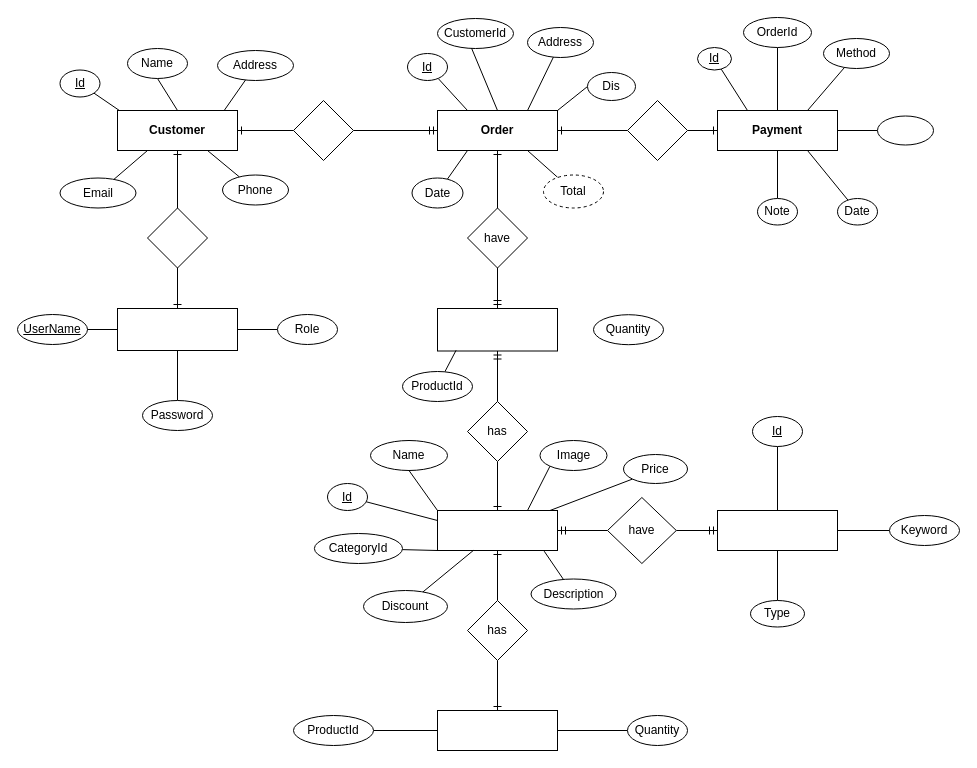
Some shapes in this 977 by 768 pixel diagram are drawn without their labels. The centre of each missing label's shape, as x and y in pixels:
"Amount" belongs at point 905,130.
"Category" belongs at point 777,530.
"login" belongs at point 177,237.
"make" belongs at point 323,130.
"OrderDetail" belongs at point 497,329.
"pay" belongs at point 657,130.
"Product" belongs at point 497,530.
"Stock" belongs at point 497,730.
"User" belongs at point 177,329.
